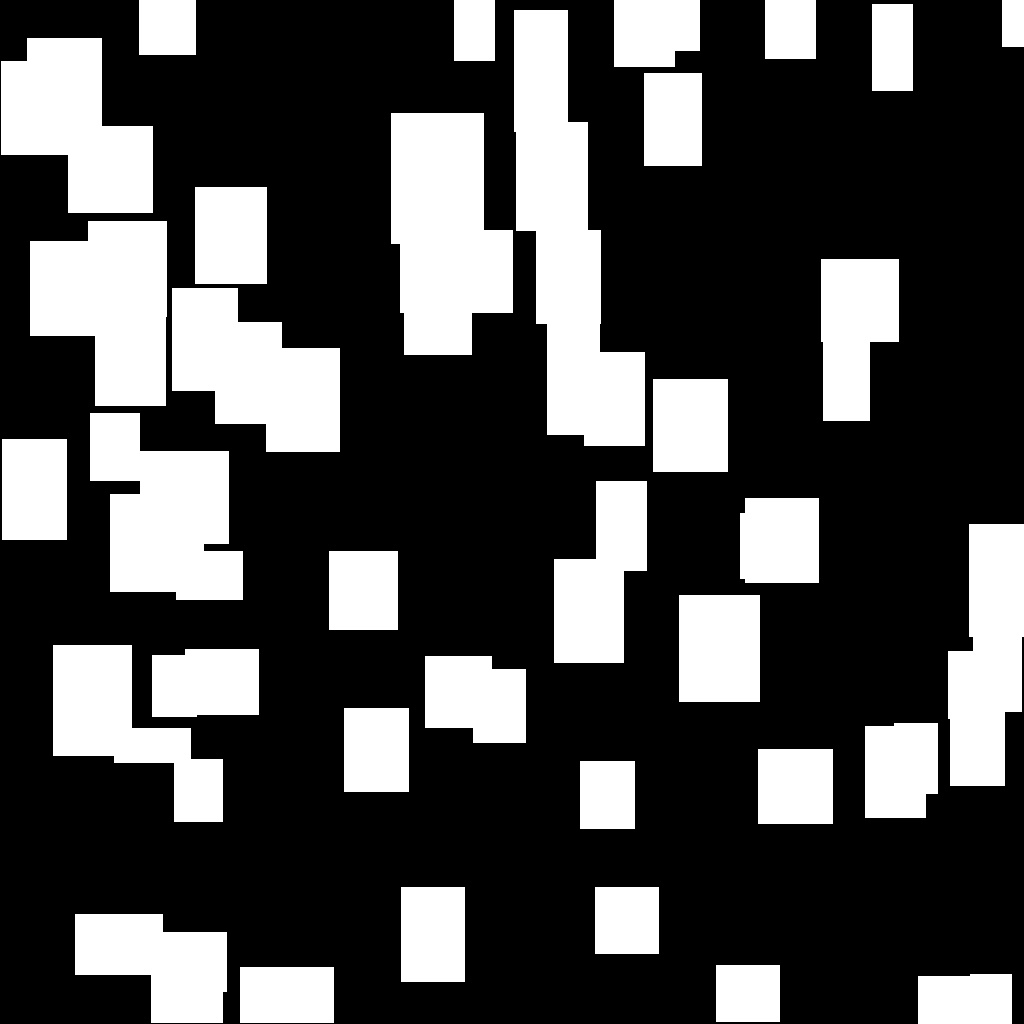wheat_head: (391, 113, 483, 243), (400, 230, 512, 312), (110, 494, 203, 591), (53, 645, 131, 755), (679, 595, 759, 701), (140, 451, 228, 543), (516, 122, 587, 230), (266, 348, 339, 451), (88, 221, 166, 316), (68, 126, 152, 212), (554, 559, 623, 662), (195, 187, 266, 283), (653, 379, 727, 471), (404, 253, 471, 354), (215, 322, 281, 423), (27, 38, 101, 128), (172, 288, 237, 390), (95, 311, 165, 405), (30, 241, 99, 335), (514, 10, 567, 131), (2, 439, 66, 539), (1, 61, 69, 154), (821, 259, 898, 341), (969, 524, 1024, 636), (745, 498, 818, 582), (536, 230, 600, 323), (547, 320, 599, 434), (401, 887, 464, 981), (973, 589, 1021, 711), (950, 678, 1004, 785), (584, 352, 644, 445), (758, 749, 832, 823), (865, 726, 925, 817), (344, 708, 408, 791), (329, 551, 397, 629), (644, 73, 701, 165), (75, 914, 162, 974), (240, 967, 333, 1022), (185, 649, 258, 714), (425, 656, 491, 727), (596, 481, 646, 570), (823, 326, 869, 420), (595, 887, 658, 953), (157, 932, 226, 991), (614, 0, 674, 66), (473, 669, 525, 742), (948, 651, 1003, 718), (580, 761, 634, 828), (151, 972, 222, 1022), (716, 965, 779, 1021), (740, 513, 793, 578), (872, 4, 912, 90), (90, 413, 139, 480), (176, 551, 242, 599), (139, 0, 195, 54), (894, 723, 937, 793), (174, 759, 222, 821), (765, 0, 815, 58), (152, 655, 196, 716), (114, 728, 190, 762), (918, 976, 969, 1024), (454, 0, 494, 60), (970, 974, 1011, 1024), (658, 0, 699, 50), (1002, 0, 1024, 46)
